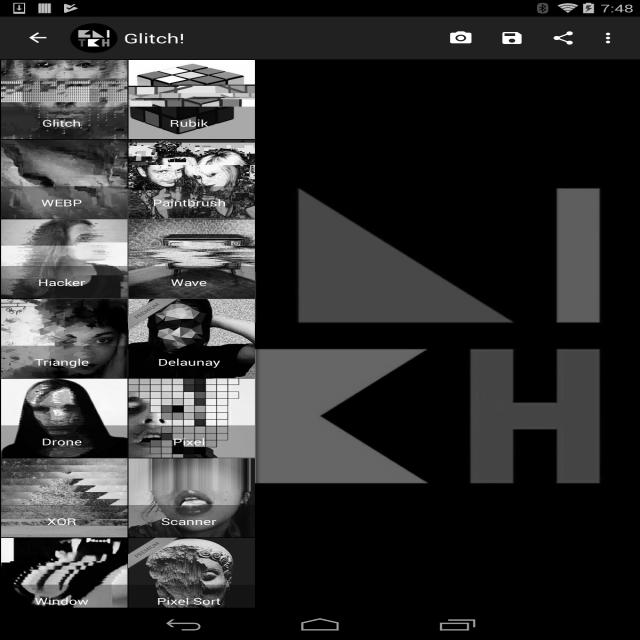ImageButton: (9, 17, 68, 59)
ImageView: (0, 59, 640, 608), (1, 378, 128, 458), (128, 378, 255, 458), (1, 458, 128, 538), (128, 458, 255, 538), (1, 60, 128, 139), (128, 60, 255, 139), (1, 299, 128, 378), (128, 299, 255, 378), (1, 538, 128, 617), (128, 538, 255, 617), (1, 140, 128, 218), (128, 140, 255, 218), (1, 220, 128, 298), (128, 220, 255, 298), (128, 299, 181, 332), (128, 538, 181, 571), (68, 22, 120, 54), (589, 22, 631, 54)
TextView: (0, 59, 640, 608), (1, 186, 128, 219), (128, 186, 255, 219), (1, 266, 128, 299), (128, 266, 255, 299), (1, 425, 128, 458), (128, 425, 255, 458), (1, 505, 128, 538), (128, 505, 255, 538), (1, 107, 128, 139), (128, 107, 255, 139), (1, 346, 128, 378), (128, 346, 255, 378), (1, 585, 128, 617), (128, 585, 255, 617), (487, 22, 538, 54), (436, 22, 486, 54), (538, 22, 588, 54), (124, 29, 184, 47)
